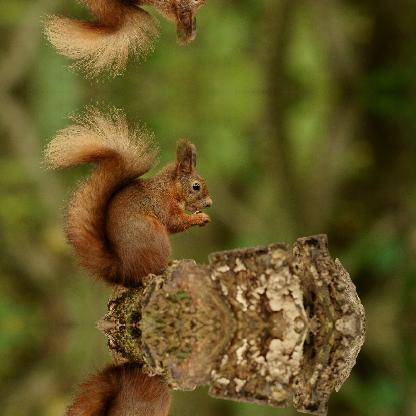Squirrel: (37, 100, 212, 290), (37, 0, 213, 82), (37, 359, 213, 415)
